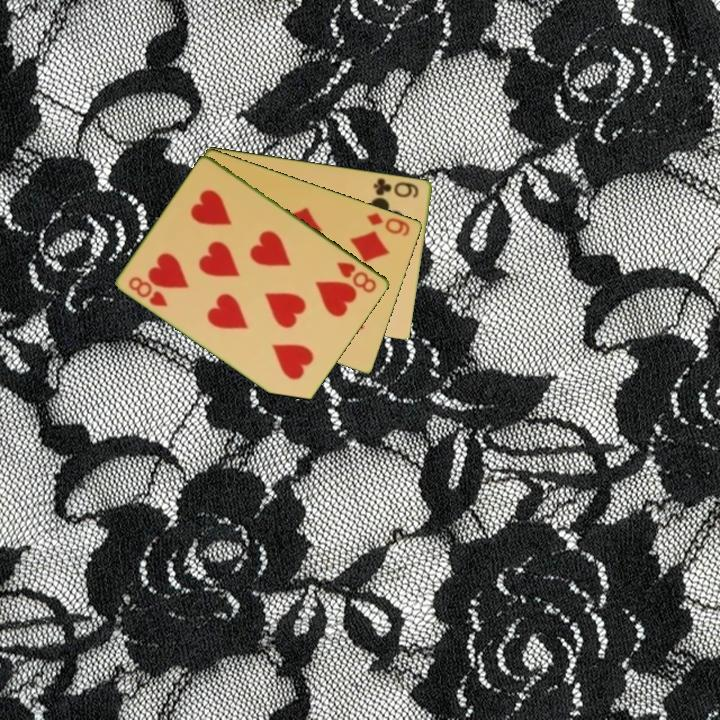6c: (370, 174, 422, 201)
6d: (363, 209, 413, 239)
8h: (333, 258, 380, 296), (125, 273, 171, 310)
